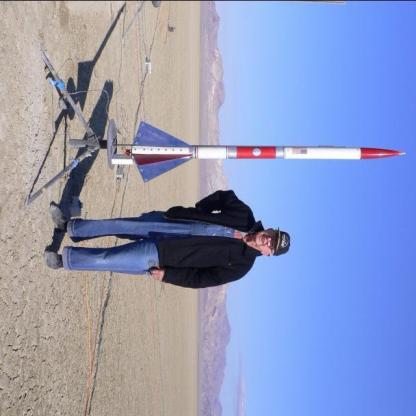MIL_TBM: (125, 119, 405, 180), (124, 142, 413, 165)
